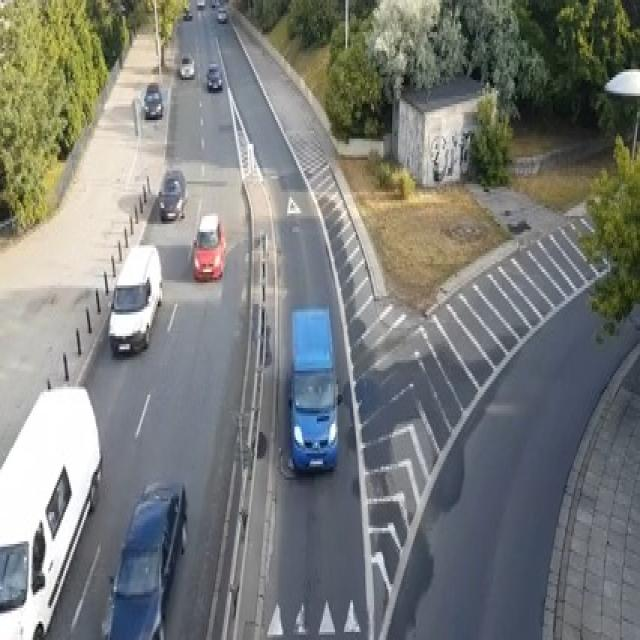bus: (0, 382, 102, 638), (288, 304, 341, 472)
car: (101, 480, 186, 637), (108, 242, 162, 354), (192, 211, 225, 280), (158, 168, 186, 221), (141, 83, 162, 117), (206, 61, 222, 91), (179, 54, 194, 78), (216, 6, 227, 22), (184, 8, 192, 19), (196, 0, 204, 8), (210, 0, 219, 5)
